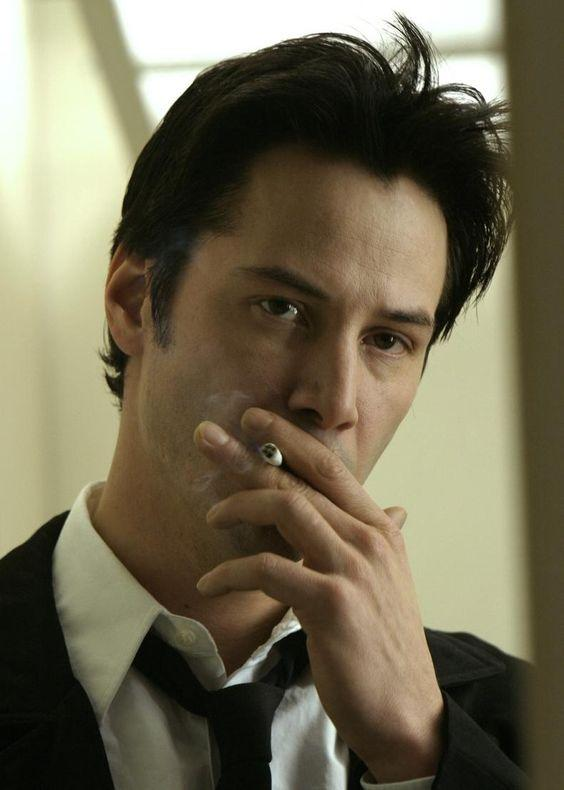cigarette: (260, 443, 283, 466)
